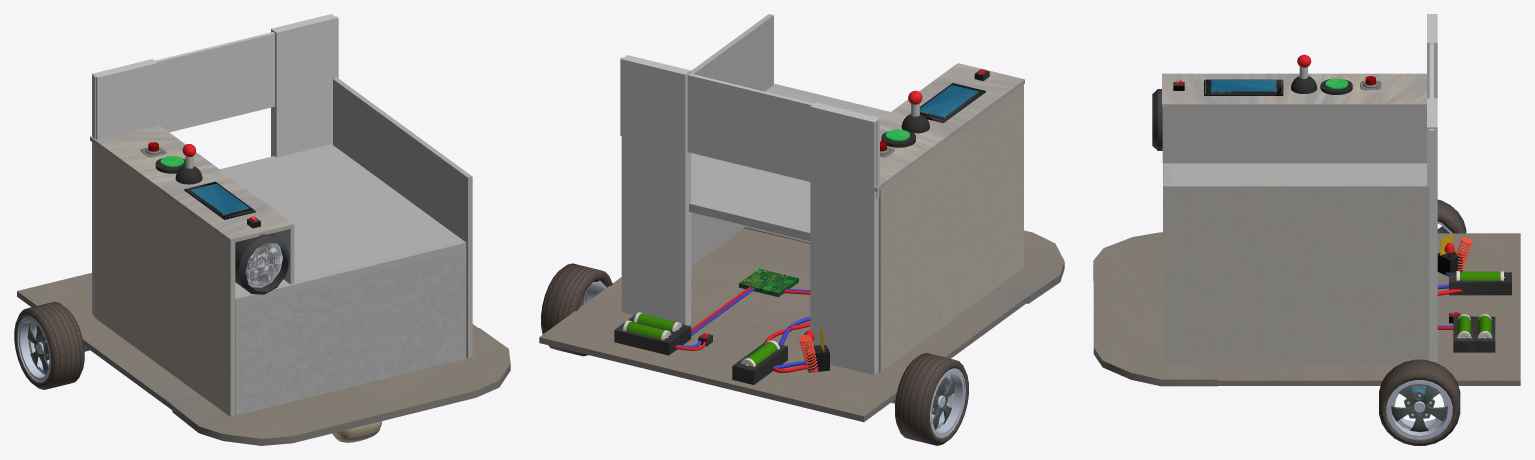
File: AI wheel chair REAL-compressed.glb
3 renders of one model, left to right at view 1: azimuth 30°, elevation 25°; view 2: azimuth 150°, elevation 25°; view 3: azimuth 270°, elevation 25°, orthographic. The views are drawn at different scales.
Visible parts, largest first — view 1: mesh_id118, mesh_id101, mesh_id87, mesh_id609, mesh_id85, mesh_id137, mesh_id163, mesh_id181, mesh_id27, mesh_id154, node_id41, node_id267 (+7 smaller); view 2: mesh_id27, mesh_id101, mesh_id163, mesh_id154, mesh_id137, mesh_id87, mesh_id181, mesh_id85, node_id41, mesh_id609, node_id65, node_id192 (+7 smaller); view 3: mesh_id85, mesh_id105, mesh_id27, mesh_id609, mesh_id181, mesh_id87, mesh_id163, node_id65, node_id69, node_id192, node_id67, mesh_id388 (+9 smaller).
Part boxes in pixels (<box>): mesh_id118: <box>235,239,466,415</box>; mesh_id101: <box>94,144,235,416</box>; mesh_id87: <box>220,144,466,306</box>; mesh_id609: <box>172,328,510,445</box>; mesh_id85: <box>333,77,472,357</box>; mesh_id137: <box>93,16,338,149</box>; mesh_id163: <box>271,14,336,157</box>; mesh_id181: <box>90,124,294,243</box>; mesh_id27: <box>17,273,478,410</box>; mesh_id154: <box>92,59,157,315</box>; node_id41: <box>18,301,84,389</box>; node_id267: <box>235,233,289,294</box>; mesh_id27: <box>539,228,1036,422</box>; mesh_id101: <box>878,84,1023,372</box>; mesh_id163: <box>621,55,691,325</box>; mesh_id154: <box>810,102,879,374</box>; mesh_id137: <box>620,57,879,198</box>; mesh_id87: <box>689,87,885,240</box>; mesh_id181: <box>810,63,1024,191</box>; mesh_id85: <box>691,14,773,266</box>; node_id41: <box>895,353,964,445</box>; mesh_id609: <box>744,225,1064,303</box>; node_id65: <box>541,263,610,356</box>; node_id192: <box>920,83,985,123</box>; mesh_id85: <box>1163,184,1429,363</box>; mesh_id105: <box>1162,104,1426,163</box>; mesh_id27: <box>1217,233,1520,385</box>; mesh_id609: <box>1093,232,1218,386</box>; mesh_id181: <box>1162,73,1426,107</box>; mesh_id87: <box>1171,163,1426,183</box>; mesh_id163: <box>1427,98,1437,361</box>; node_id65: <box>1379,359,1460,445</box>; node_id69: <box>1386,380,1452,440</box>; node_id192: <box>1204,79,1283,95</box>; node_id67: <box>1391,385,1447,432</box>; mesh_id388: <box>1449,272,1511,295</box>.
Size of the model in its own units: 0.7266 by 0.5502 by 0.7384.
47 materials, 32 textured.
